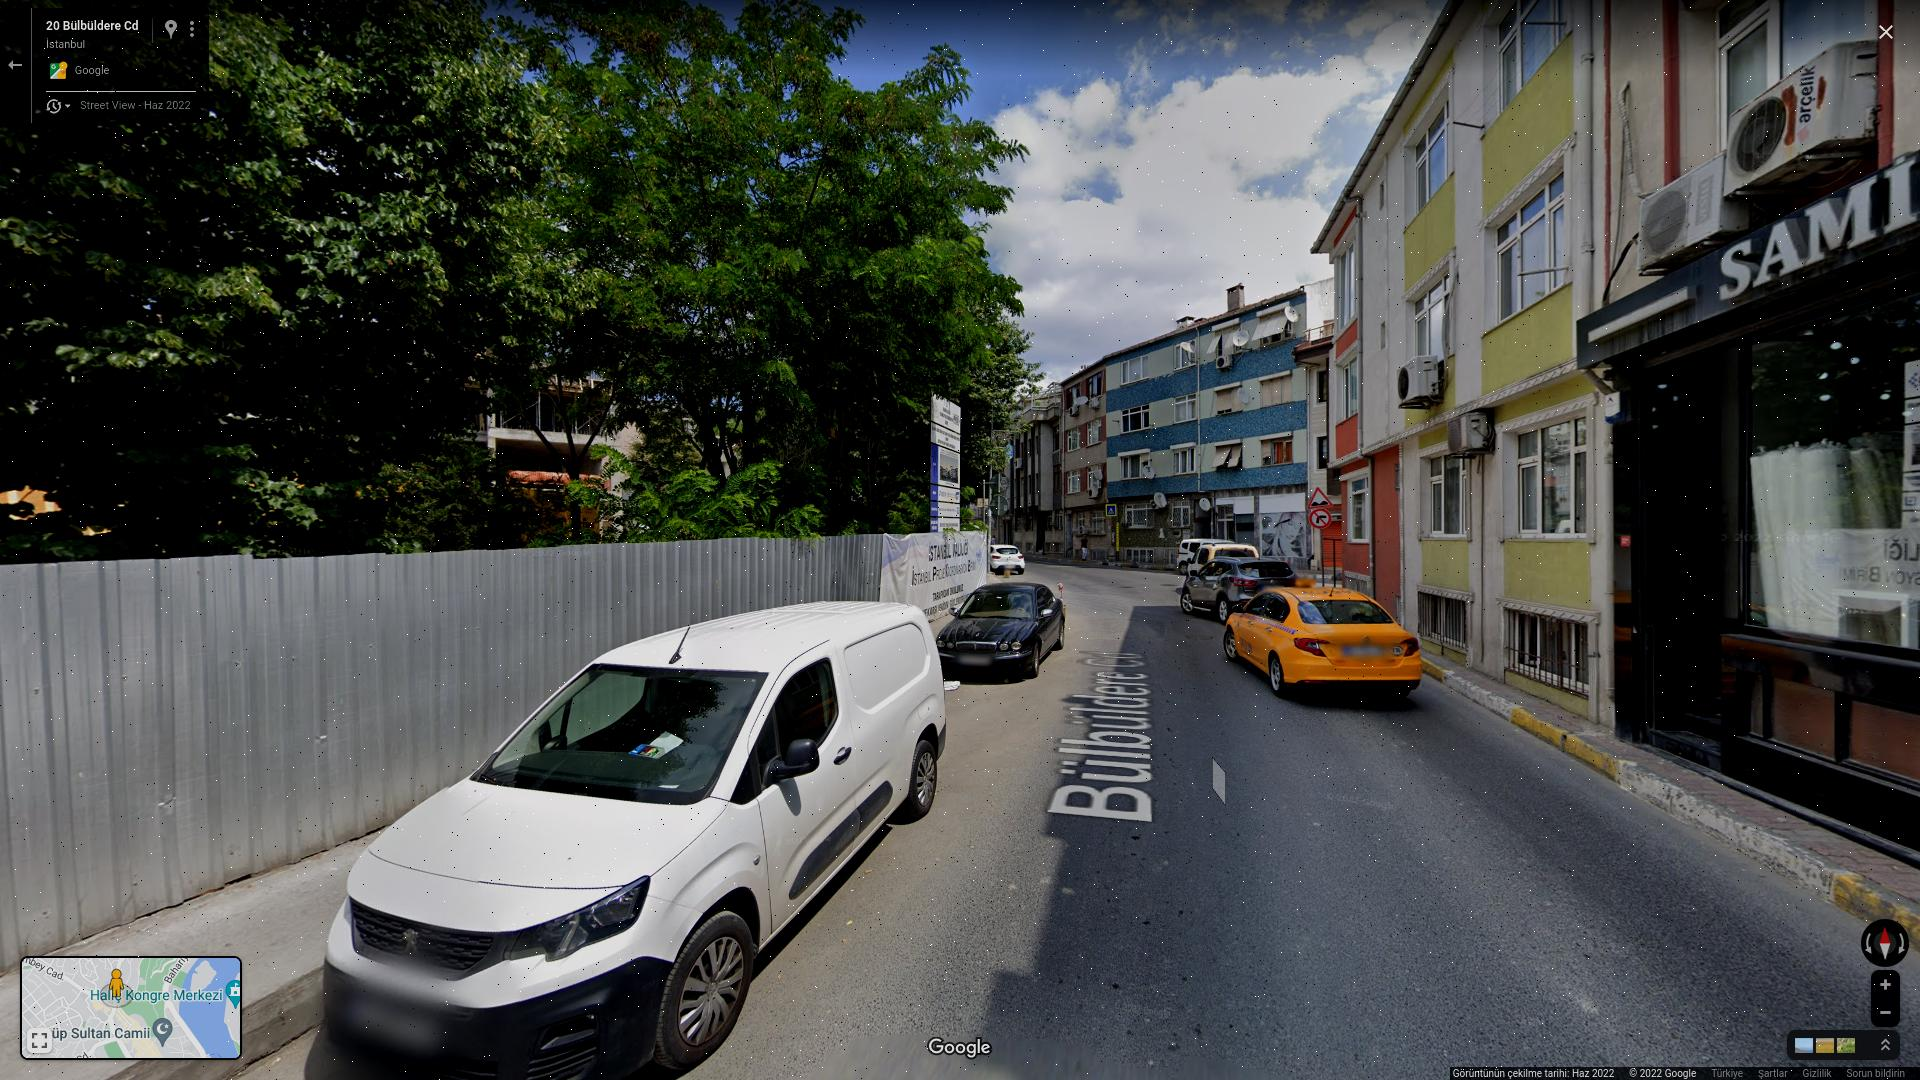rightturnsareforbidden: (1309, 509, 1331, 529)
